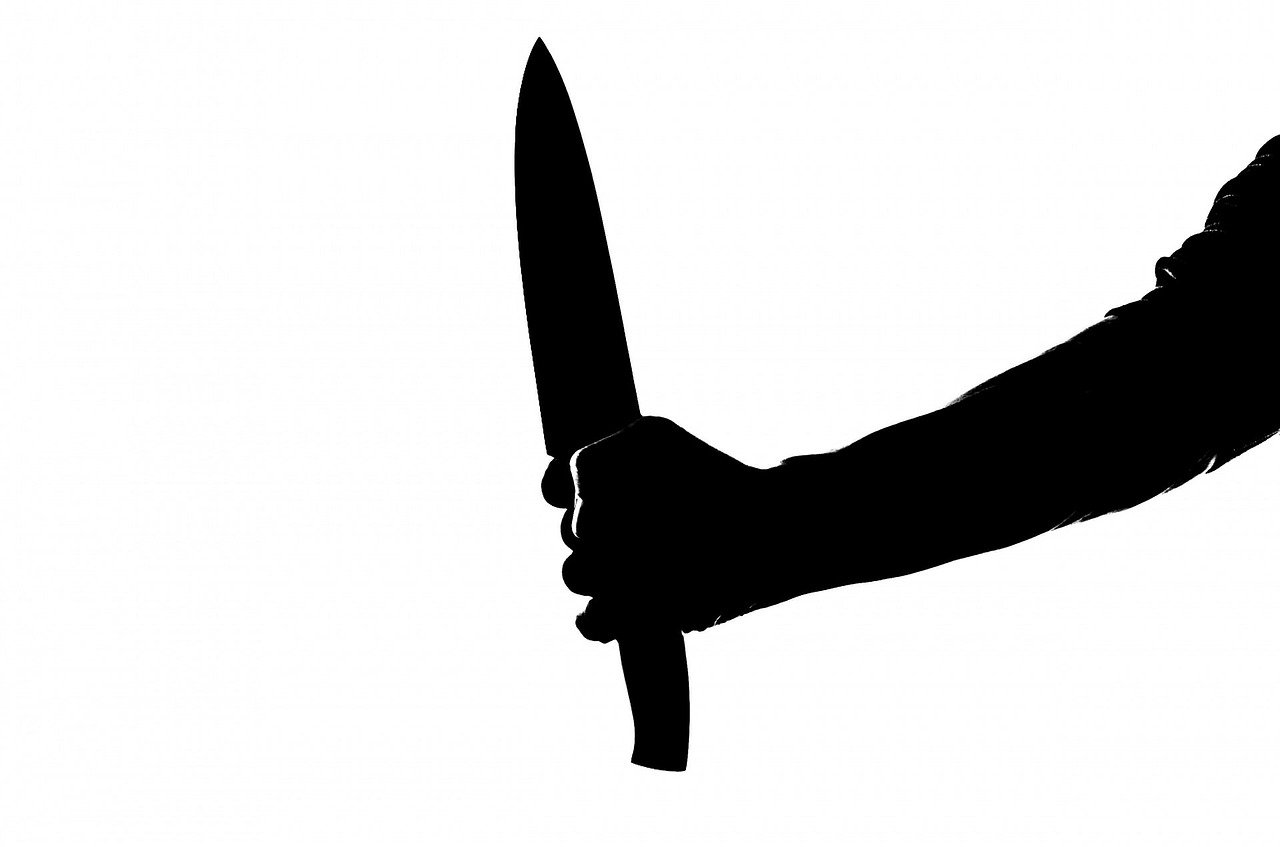knife: (502, 19, 698, 778)
